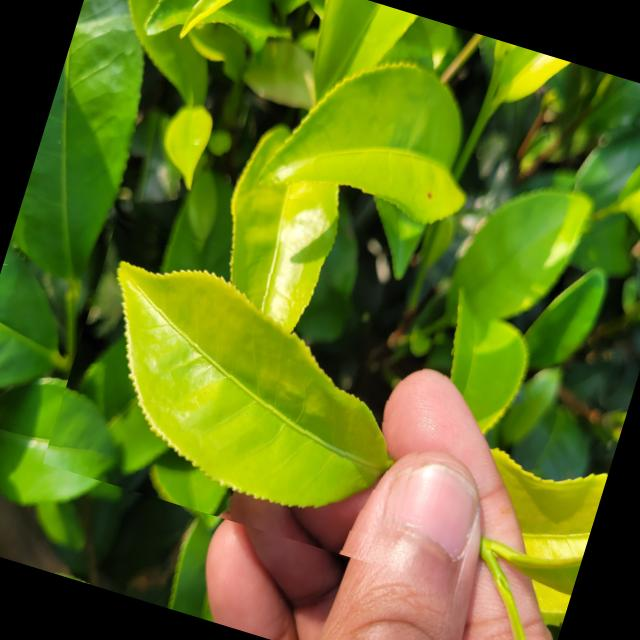Category B(2-4 days): (42, 211, 465, 568)
